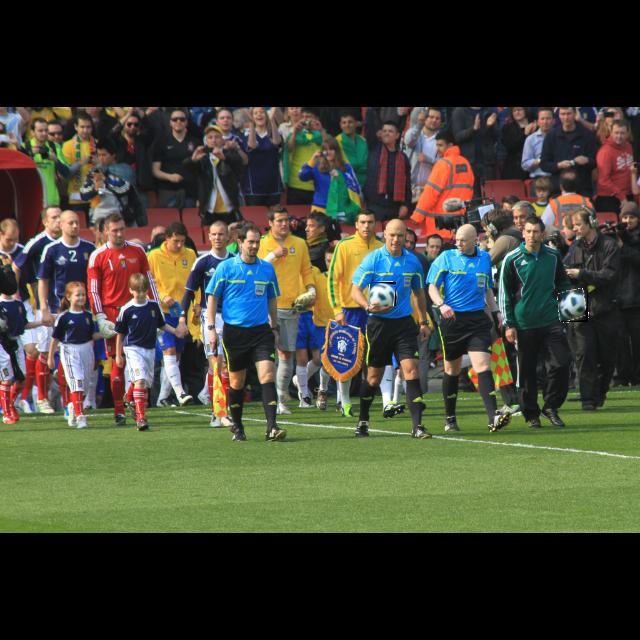Football: (558, 290, 588, 322), (370, 282, 396, 306)
